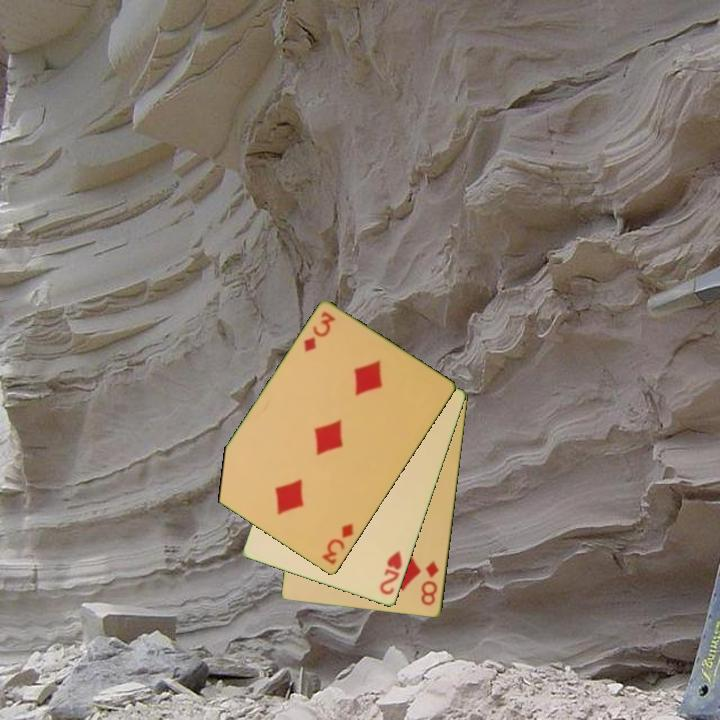2h: (376, 547, 405, 598)
3d: (318, 520, 357, 568), (300, 308, 339, 355)
8d: (418, 557, 442, 608)
